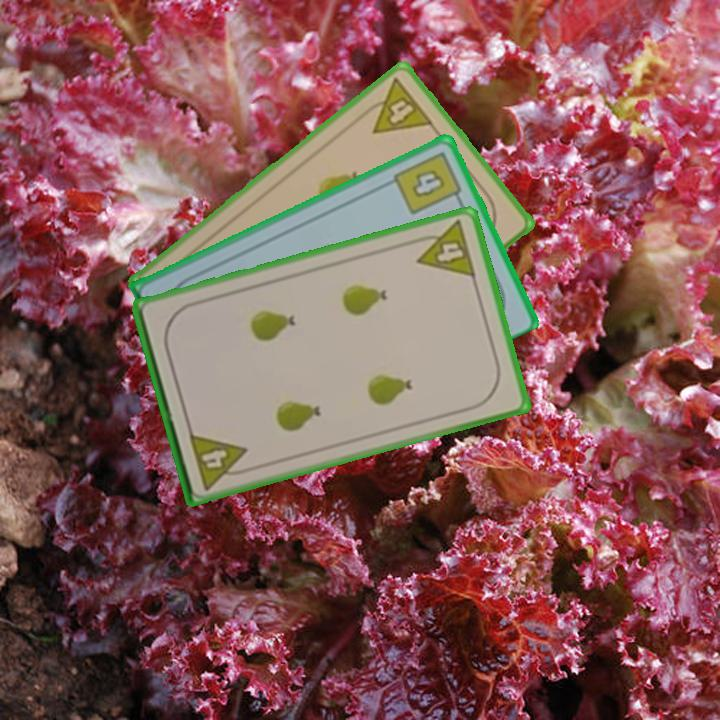4b: (389, 147, 466, 218)
4p: (356, 74, 436, 137), (408, 217, 479, 281), (185, 429, 254, 493)
